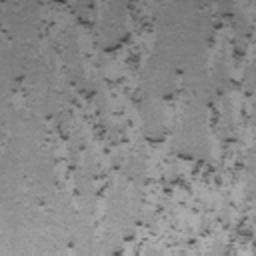Oxide scale of temperature system: (37, 0, 256, 256), (10, 72, 31, 105), (1, 26, 15, 44)
